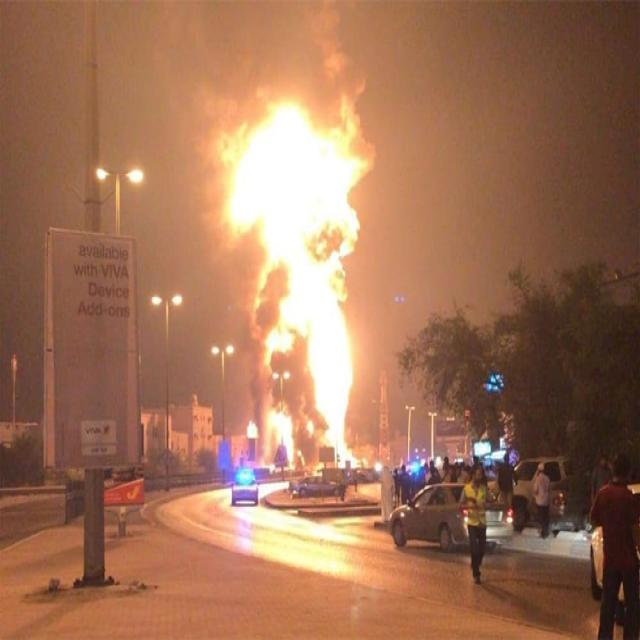Fire: (217, 71, 382, 511)
